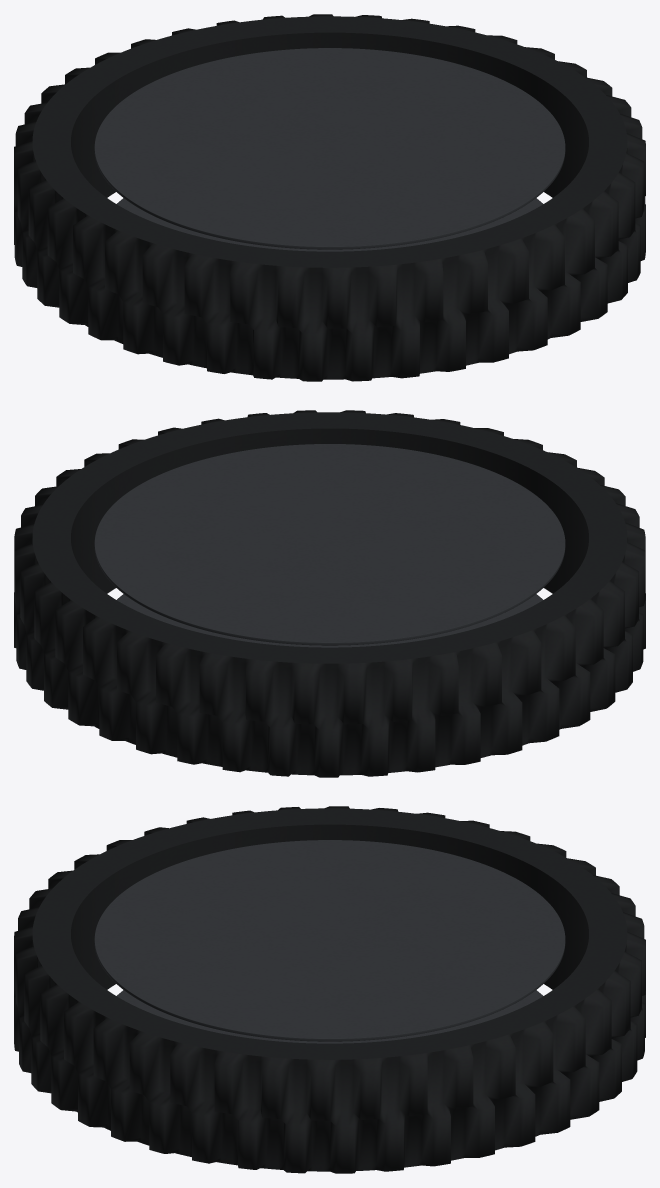
Rendered from right_wheel.obj.
3 views of the same model, one above another, from view 1: azimuth 30°, elevation 25°; view 2: azimuth 150°, elevation 25°; view 3: azimuth 270°, elevation 25° (orthographic).
Parts seen in each view (by area): view 1: right_wheel__rubber_tyre, right_wheel__wheel_recess_1, right_wheel__wheel_recess_-1; view 2: right_wheel__rubber_tyre, right_wheel__wheel_recess_1, right_wheel__wheel_recess_-1; view 3: right_wheel__rubber_tyre, right_wheel__wheel_recess_1, right_wheel__wheel_recess_-1.
Boxes of the visible parts, box(x1,y1,x2,y2) form: right_wheel__rubber_tyre: box(14, 14, 645, 381); right_wheel__wheel_recess_1: box(94, 48, 565, 249); right_wheel__wheel_recess_-1: box(116, 198, 543, 251); right_wheel__rubber_tyre: box(14, 410, 645, 777); right_wheel__wheel_recess_1: box(94, 444, 565, 645); right_wheel__wheel_recess_-1: box(117, 594, 542, 647); right_wheel__rubber_tyre: box(14, 806, 645, 1173); right_wheel__wheel_recess_1: box(94, 840, 565, 1041); right_wheel__wheel_recess_-1: box(116, 990, 543, 1043).
Size of the model in its own units: 0.205 by 0.04 by 0.205.
2 materials, 2 textured.
